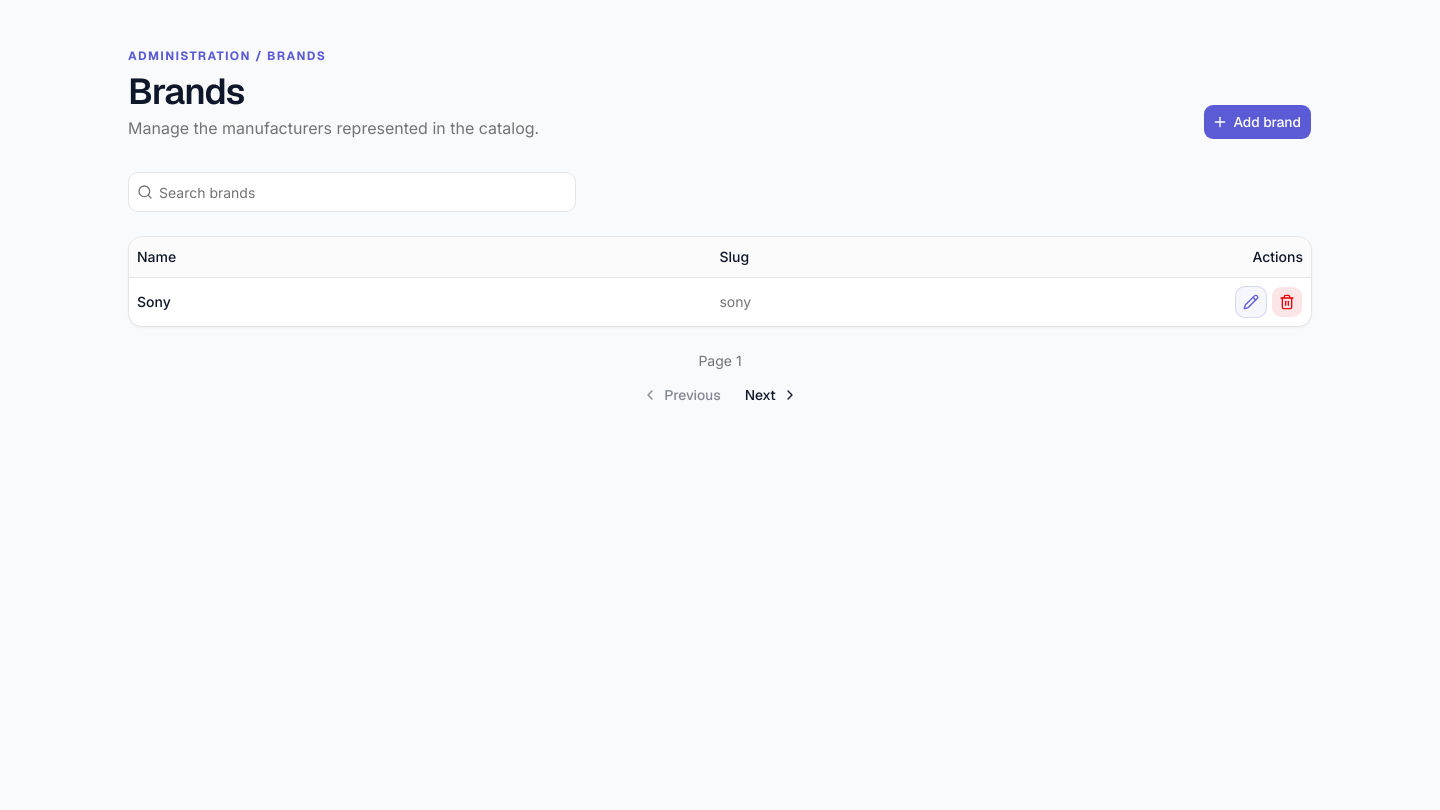
Test: BrandsCrud › shows deletion errors and keeps the current page
Click the button named "Delete Sony" at [1287, 302], box [1271,286,1303,318]
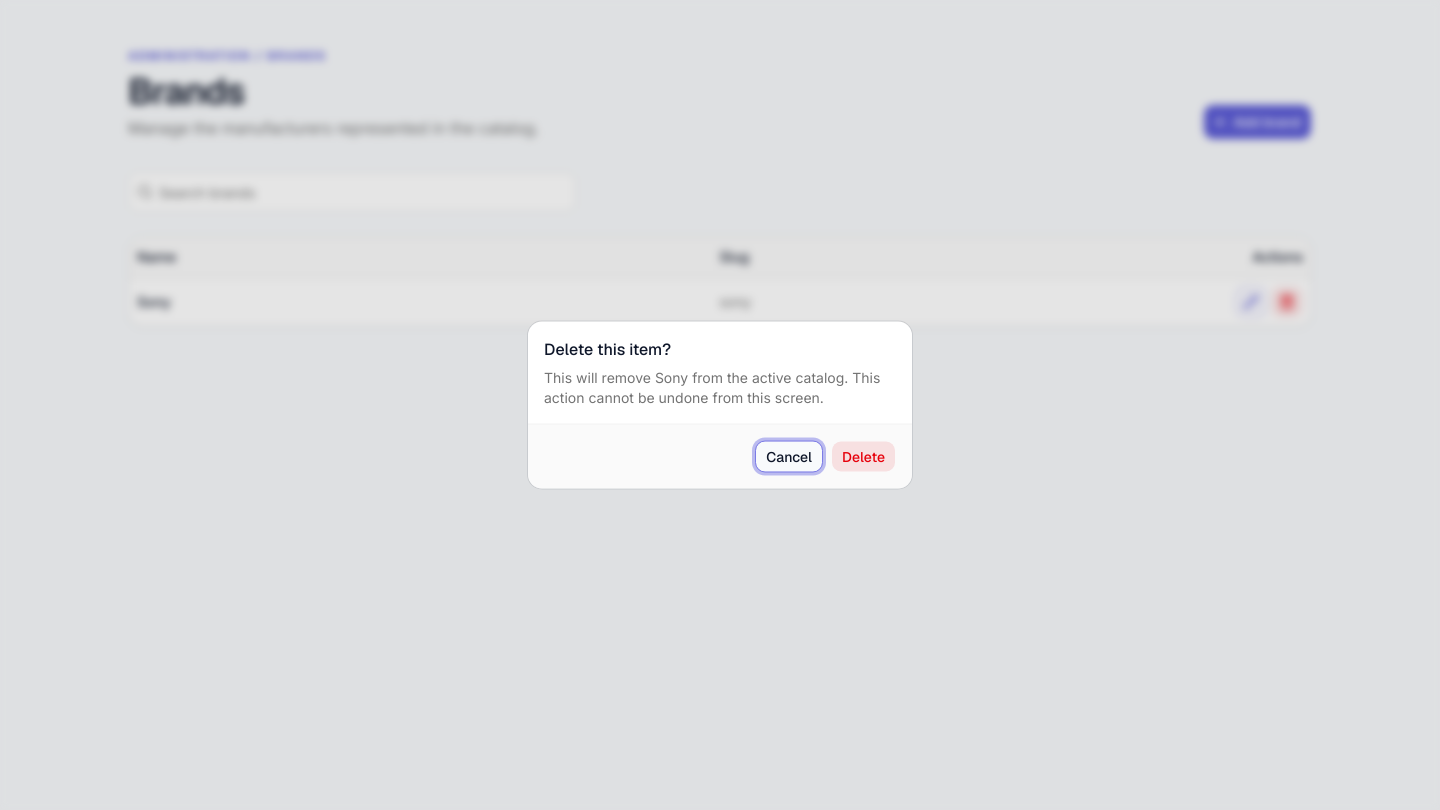
Click the button "Delete" at [863, 456], box [831,440,896,472]
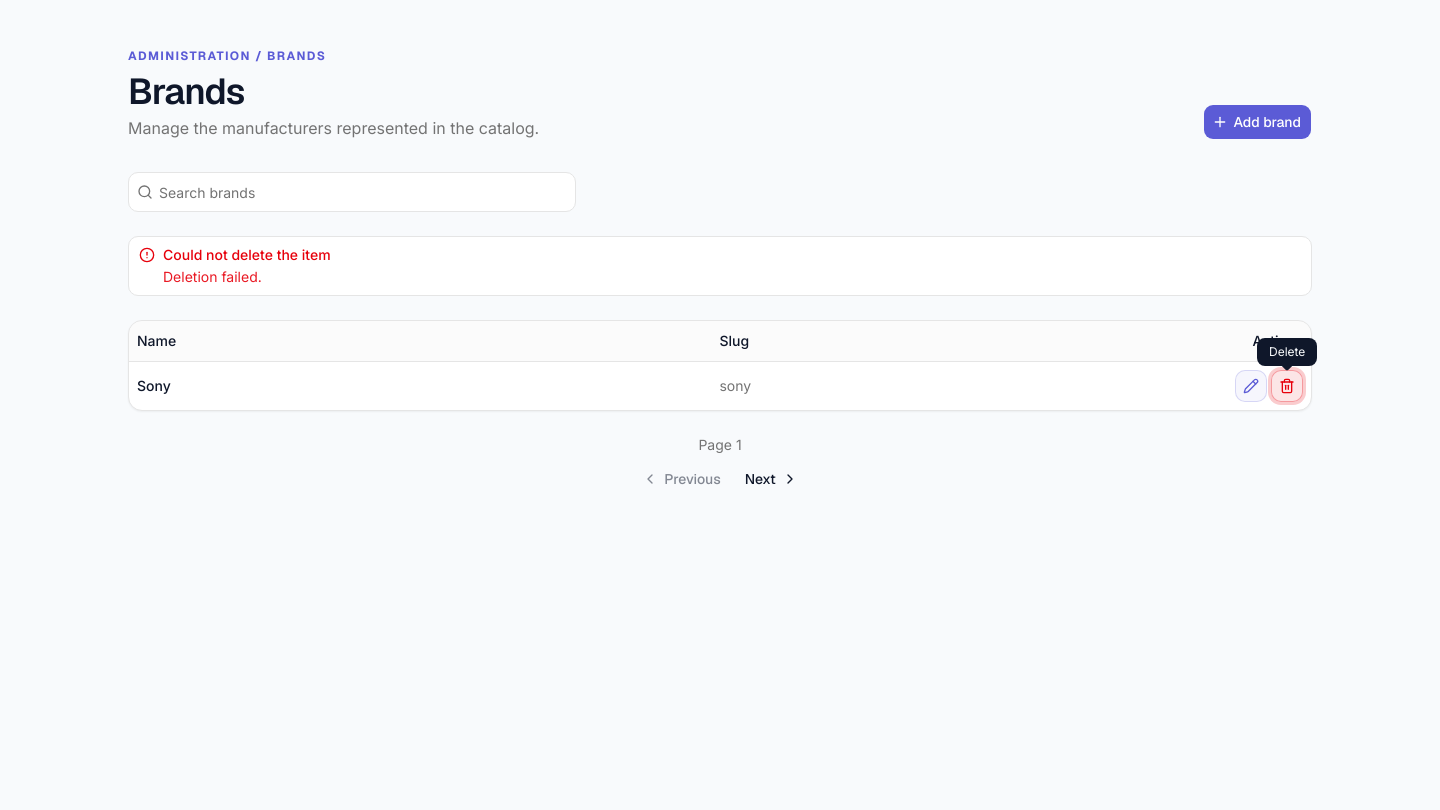
Now the text "Deletion failed." is shown, box [163,268,262,285]
